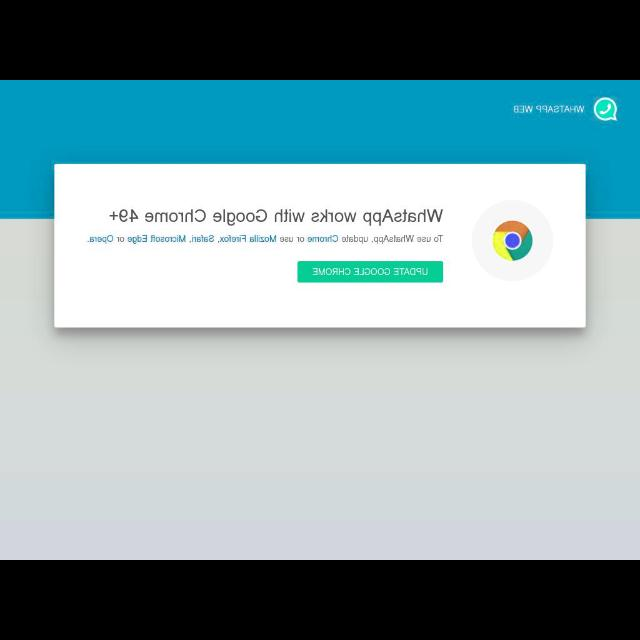image: (492, 220, 532, 260), (592, 96, 618, 124)
panel: (53, 165, 584, 328)
text: (110, 209, 442, 223), (86, 235, 442, 245), (312, 267, 428, 277), (513, 106, 585, 114)
textbutton: (298, 262, 444, 282)
